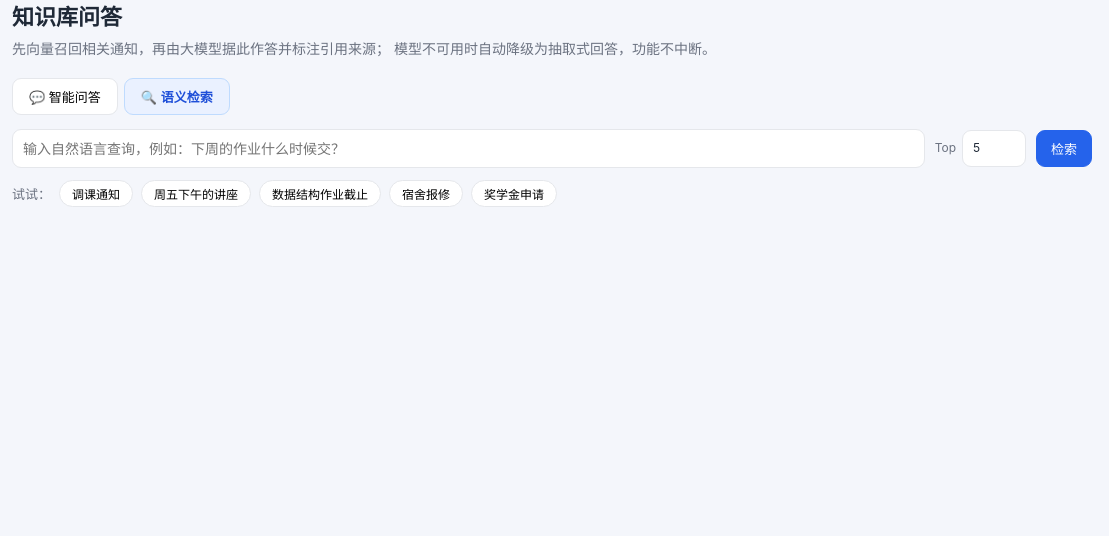
Test: Search 组件的问答模式 › 把回答里的 [1] 渲染成可高亮标签，与引用列表对照
Click the button "💬 智能问答". click: (65,96)
box: [12,78,118,115]
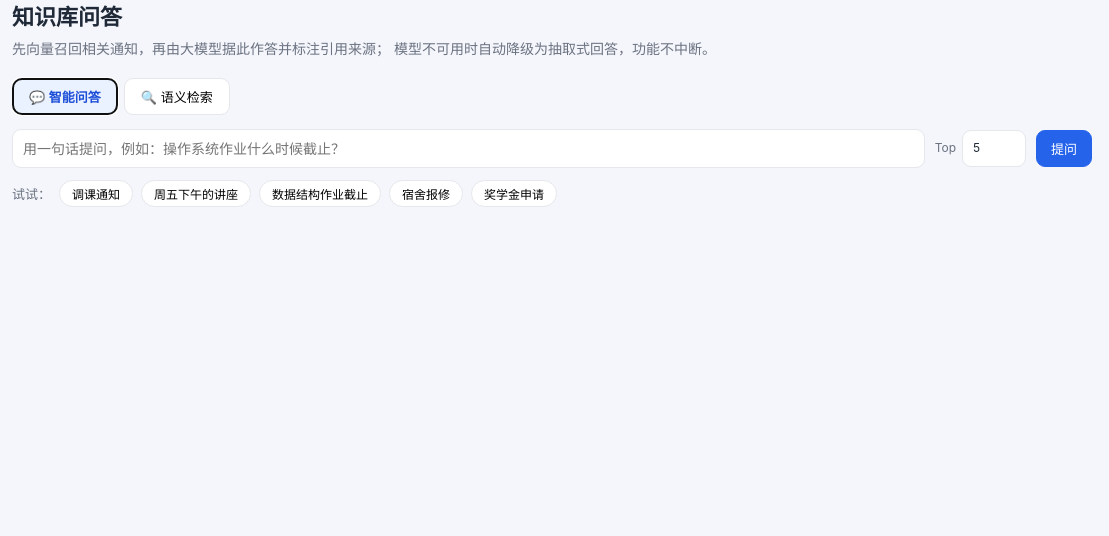
Type "工作坊报名什么时候截止" into the field. click: (468,149)
box: [12,129,925,168]
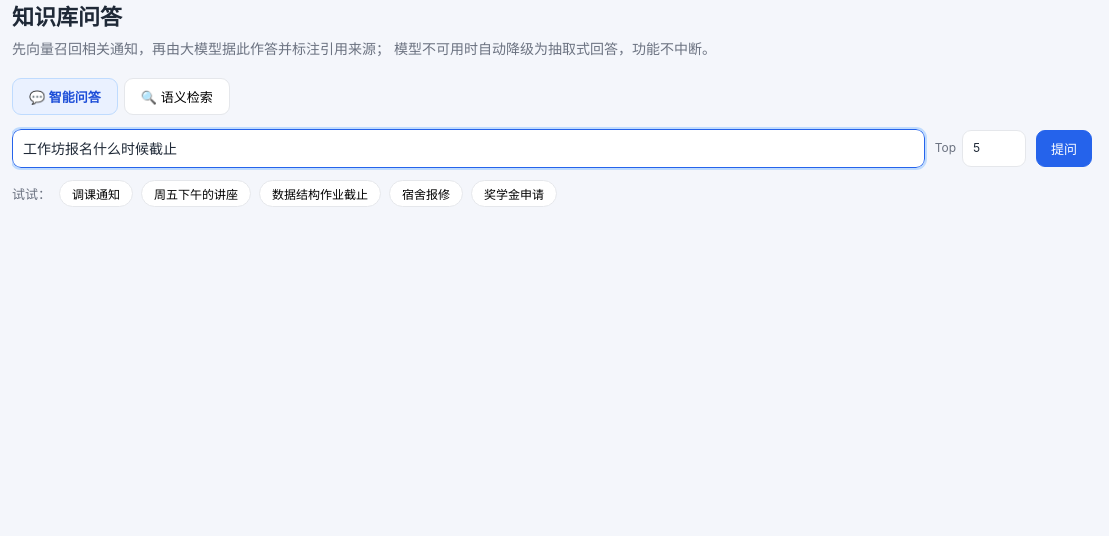
Click the button "提问". click: (1064,149)
box: [1036,130,1092,167]
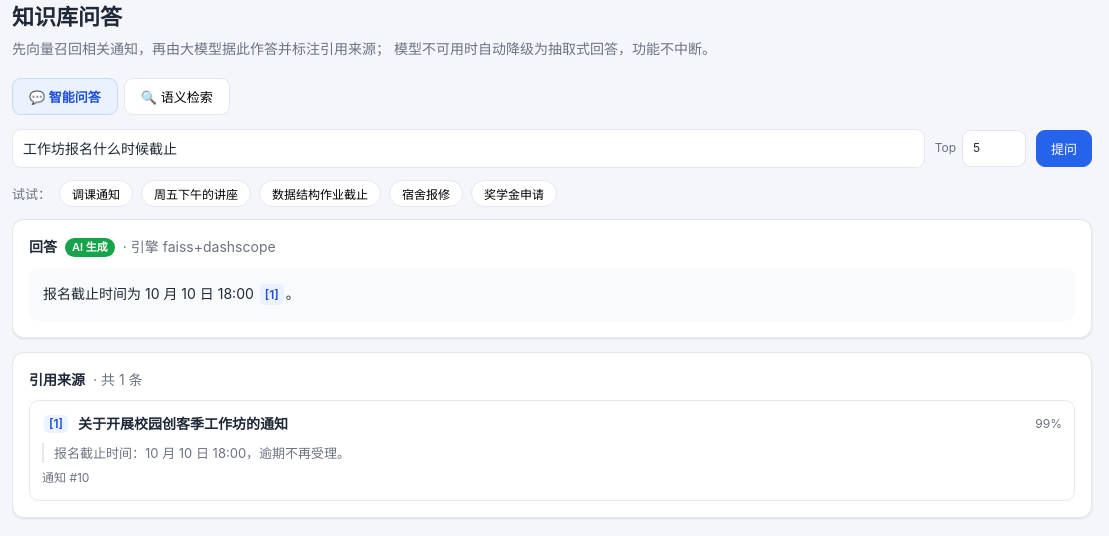
Expected: the text "[1]" next to "报名截止时间为 10 月 10 日 18:00" is shown, [265,287,279,302]
Expected: the text "AI 生成" is shown, [65,238,115,257]
Expected: the text "报名截止时间：10 月 10 日 18:00，逾期不再受理。" is shown, [42,443,1062,463]
